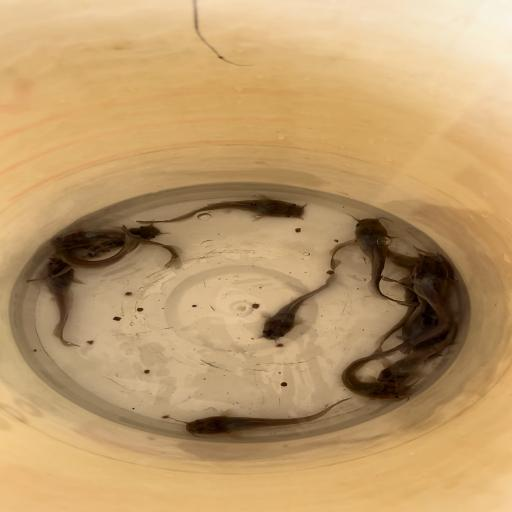lele: (23, 222, 163, 284), (175, 396, 355, 438), (260, 259, 344, 345), (350, 217, 420, 307), (397, 252, 456, 354), (132, 193, 310, 225), (52, 228, 188, 268), (378, 322, 460, 384), (328, 236, 454, 276), (339, 344, 417, 404), (366, 278, 419, 360), (41, 258, 83, 347), (56, 231, 142, 270), (413, 303, 445, 359)
